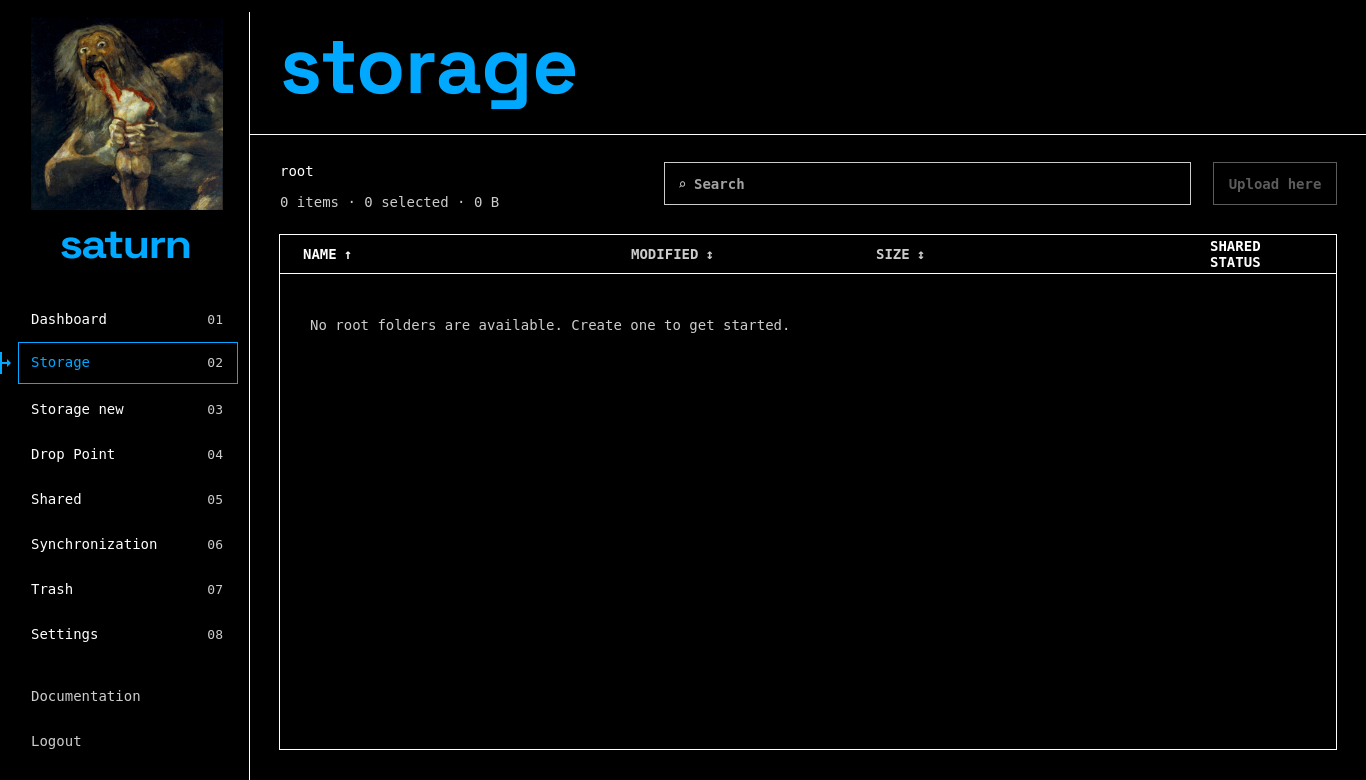
Test case: owner Saturn UI › renders the authenticated collection toolbar and empty recovery state
Expected: the heading "Storage" is shown, x1=280 y1=27 x2=578 y2=103
Expected: the search field named "Search storage" is shown, x1=664 y1=162 x2=1191 y2=205
Right-click the element with class "storage-collection" at [808, 492], box x1=279 y1=234 x2=1337 y2=750
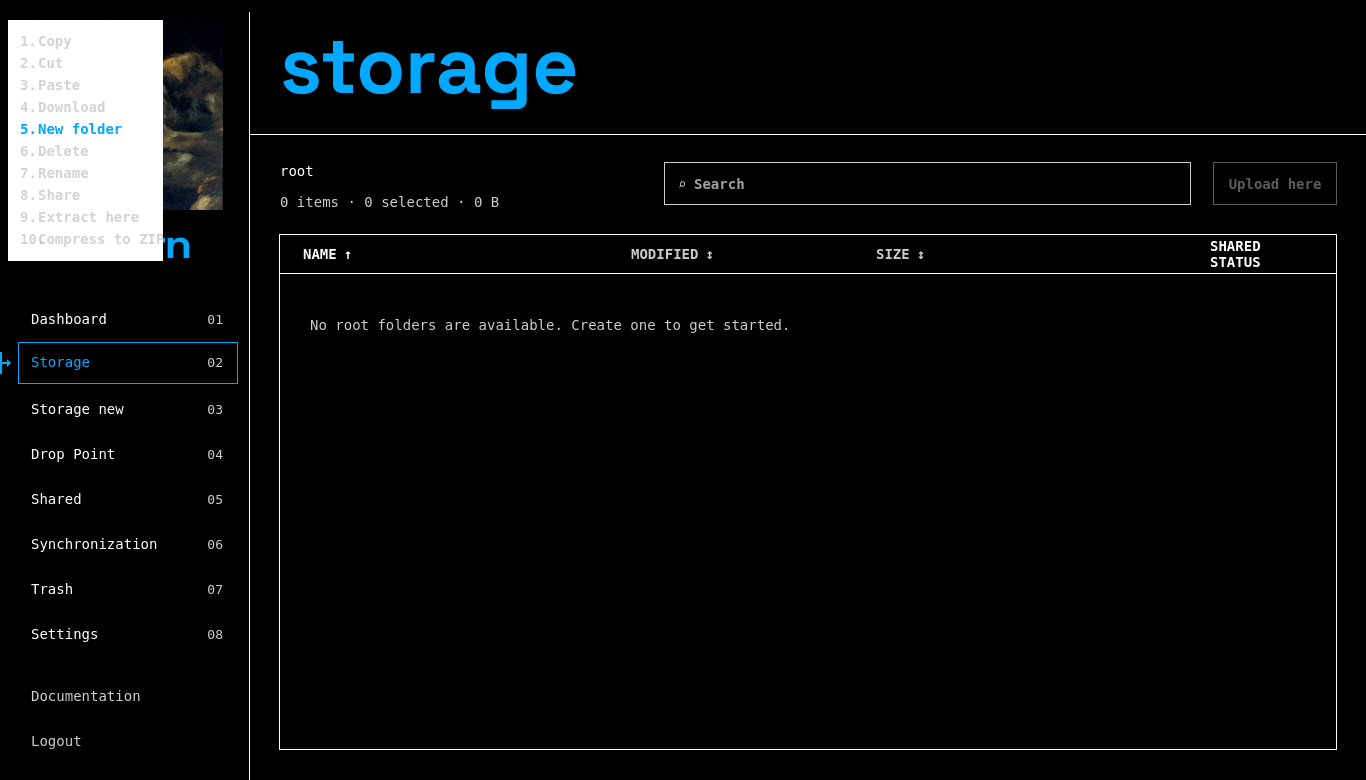
Expected: the button "Upload here" is disabled, x1=1213 y1=162 x2=1337 y2=205
Expected: the menu item "5. New folder" is enabled, x1=8 y1=118 x2=163 y2=140
